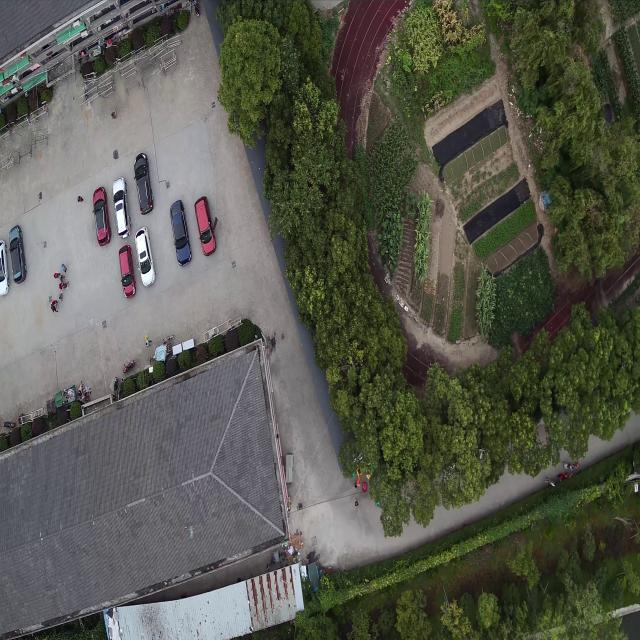UAV: (184, 524, 198, 545)
